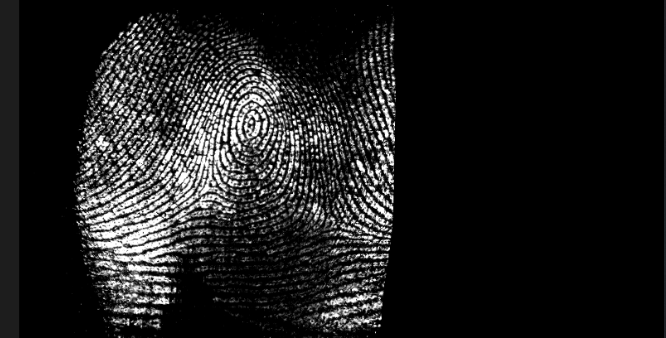deltas: (305, 200, 358, 247), (178, 160, 231, 205)
nucleo: (225, 98, 279, 150)
